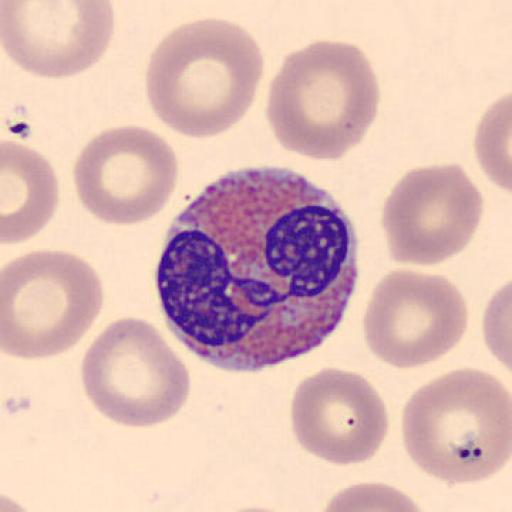RBC: (144, 16, 266, 140), (265, 38, 381, 164), (399, 366, 511, 487), (79, 316, 193, 430), (2, 248, 105, 360), (72, 123, 180, 228), (362, 267, 470, 371), (380, 162, 484, 268), (288, 365, 390, 467), (2, 0, 116, 80), (1, 139, 60, 246), (473, 89, 512, 195), (317, 479, 433, 512), (480, 277, 512, 371), (0, 489, 50, 512), (217, 503, 298, 512), (2, 491, 32, 512)
WBC: (154, 165, 362, 372)
